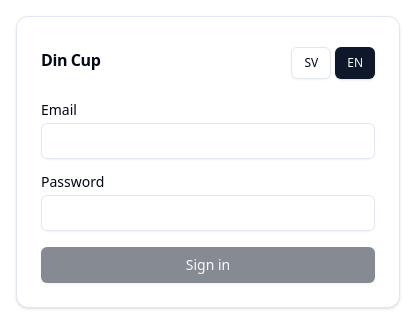
LoginPage › keeps the submit button disabled until inputs are valid
Expected: the button "Sign in" is disabled, [41,247,375,283]
Type "patrik@example.com" into the field labelled "Email".
click(208, 141); type("patrik@example.com")  # box [41,123,375,159]
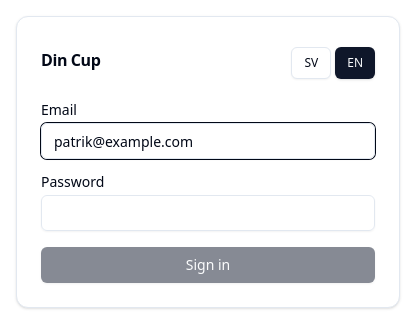
Expected: the button "Sign in" is disabled, [41,247,375,283]
Type "secret123" into the password field labelled "Password".
click(208, 213); type("secret123")  # box [41,195,375,231]
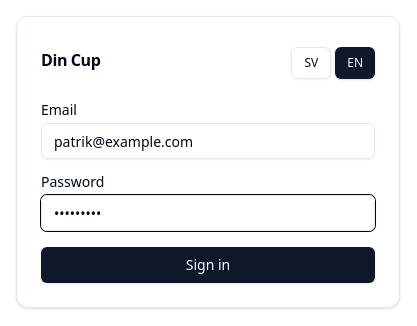
Now the button "Sign in" is enabled, box [41,247,375,283]
